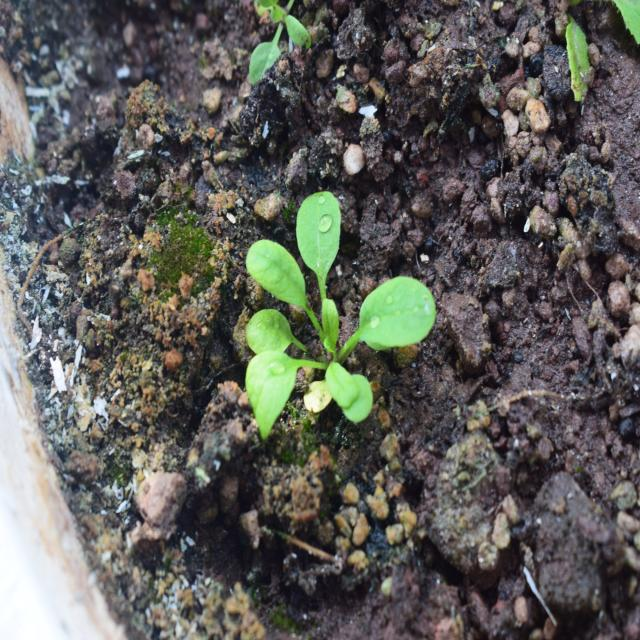Shepherd_Purse: (222, 181, 438, 434)
